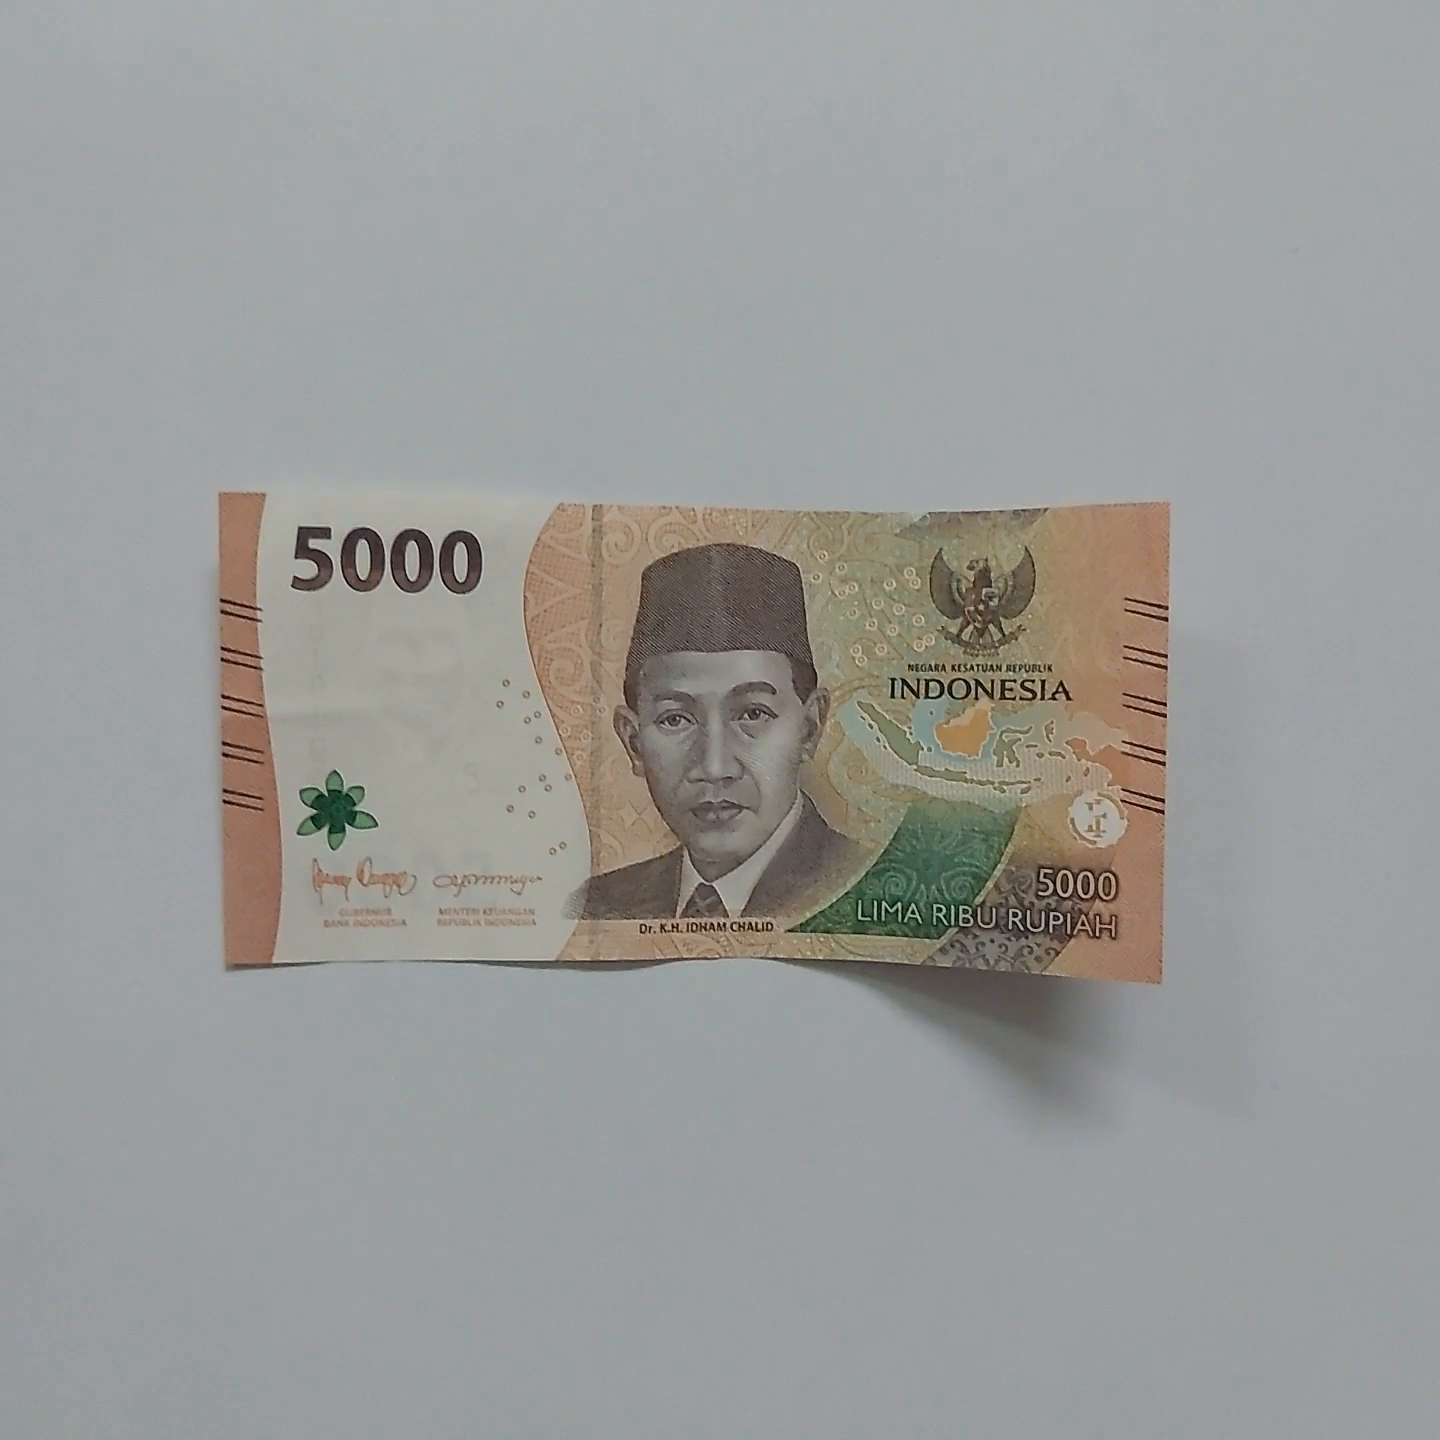5k: (186, 440, 1199, 1002)
